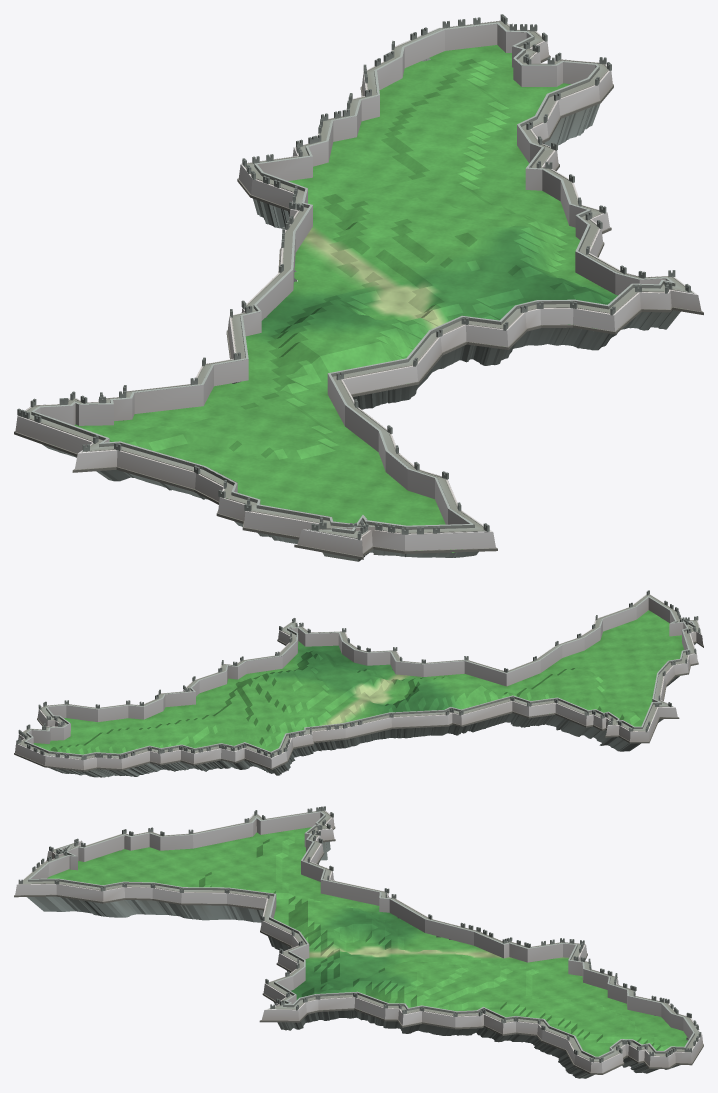
3 views of the same model, one above another, from view 1: azimuth 30°, elevation 25°; view 2: azimuth 150°, elevation 25°; view 3: azimuth 270°, elevation 25° (orthographic). The views are drawn at different scales.
Visible parts, largest first — view 1: ground_269a8c5d; view 2: ground_269a8c5d; view 3: ground_269a8c5d.
Part boxes in pixels (box(x1,y1,x2,y2)): ground_269a8c5d: box(14, 14, 703, 561); ground_269a8c5d: box(14, 590, 703, 777); ground_269a8c5d: box(14, 806, 703, 1078).
Size of the model in its own units: 141 by 7.61 by 161.
3 materials, 1 textured.
